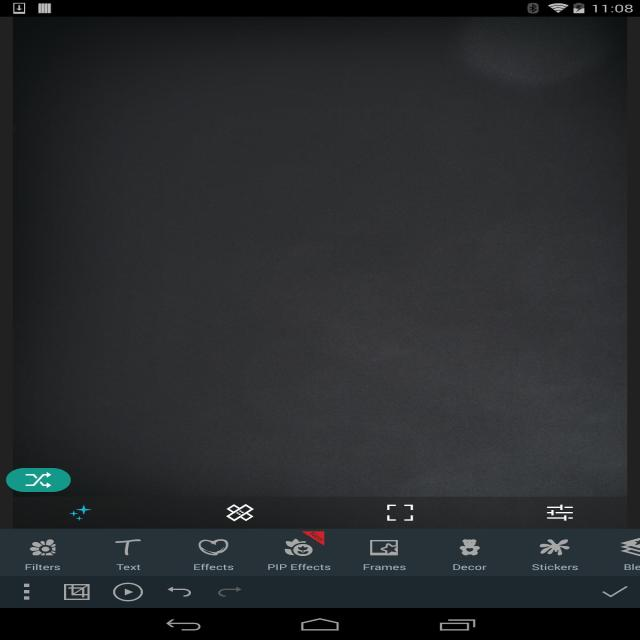button: (438, 532, 498, 576), (525, 529, 583, 574), (271, 532, 328, 574), (360, 533, 411, 576), (49, 500, 119, 531), (189, 534, 242, 574), (104, 534, 154, 576), (20, 535, 70, 575), (4, 466, 72, 494), (372, 499, 430, 529), (534, 497, 586, 529), (215, 500, 269, 529), (609, 534, 640, 574), (208, 580, 249, 607), (595, 579, 633, 607), (109, 579, 146, 605), (160, 580, 195, 607), (59, 580, 92, 606), (15, 582, 38, 604)
image: (16, 16, 623, 496)
text: (266, 561, 332, 575), (21, 560, 67, 575), (190, 562, 237, 574), (362, 563, 409, 575), (448, 562, 492, 574), (528, 564, 580, 573), (114, 559, 144, 574)
